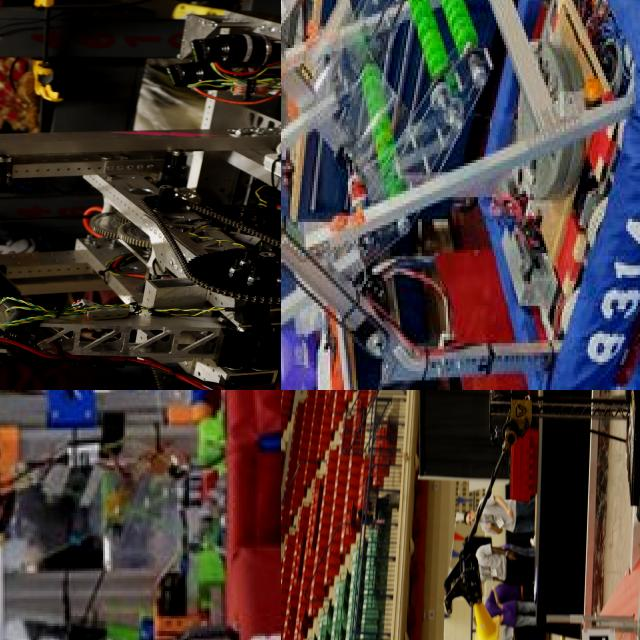FRC-Robots: (281, 0, 640, 390), (0, 14, 281, 390), (426, 390, 640, 640), (0, 390, 281, 553), (0, 569, 281, 640)
